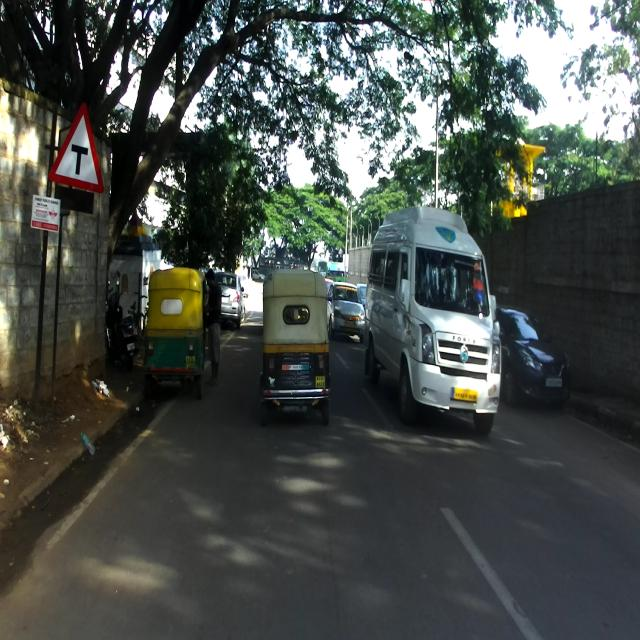auto ahead at: (258, 262, 331, 426), (138, 263, 208, 390)
bus ahead at: (365, 202, 504, 438)
motorcycle ahead at: (100, 269, 140, 369)
sign board ahead at: (46, 100, 105, 204)
